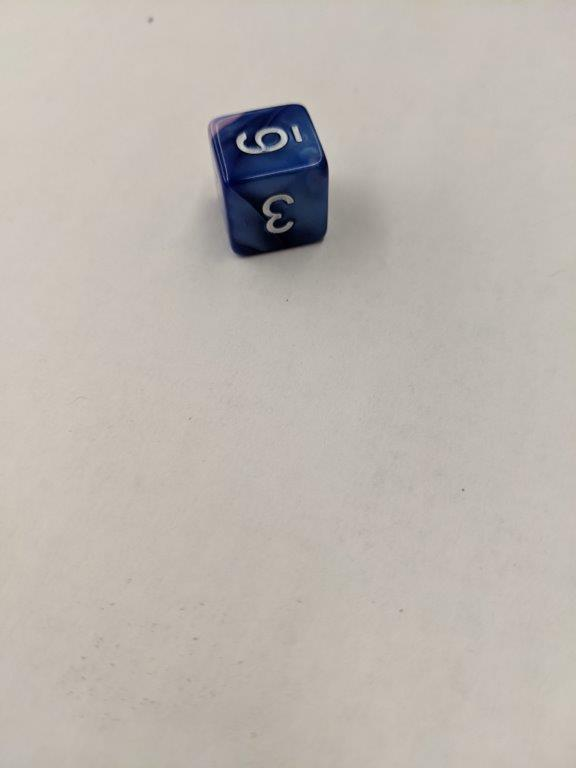d6-6: (206, 101, 332, 255)
